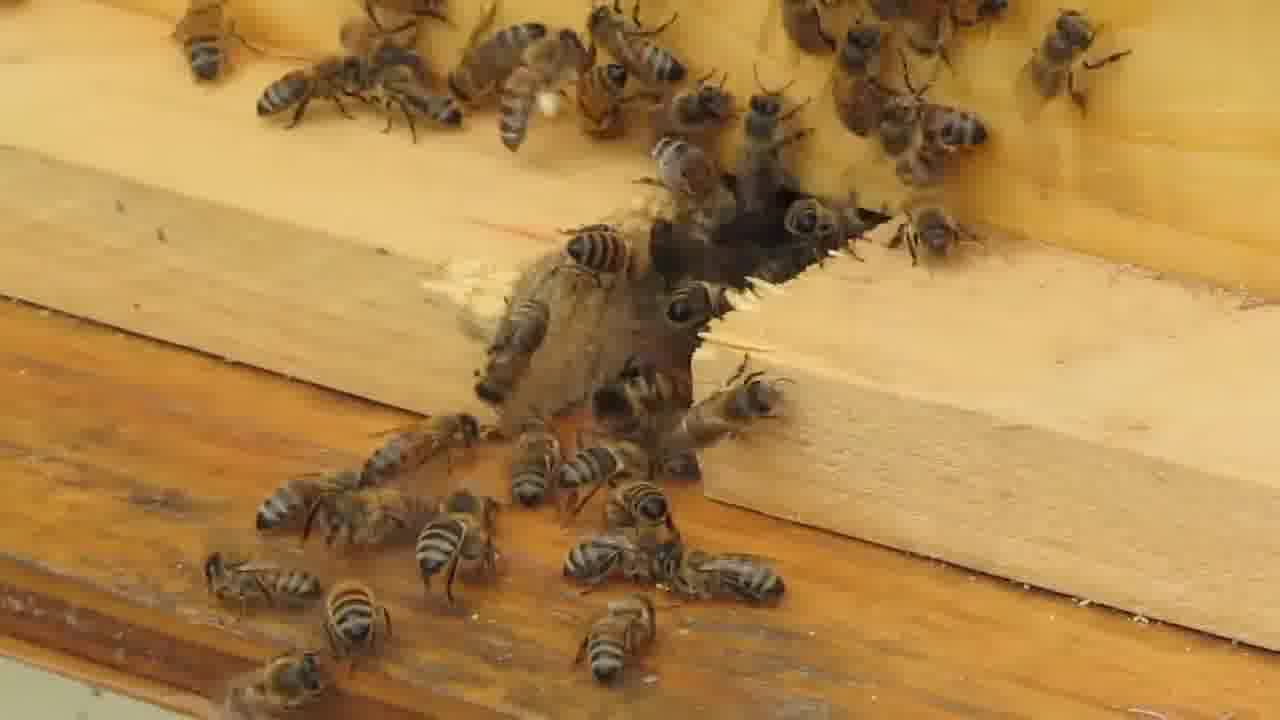pollen: (489, 40, 575, 152)
